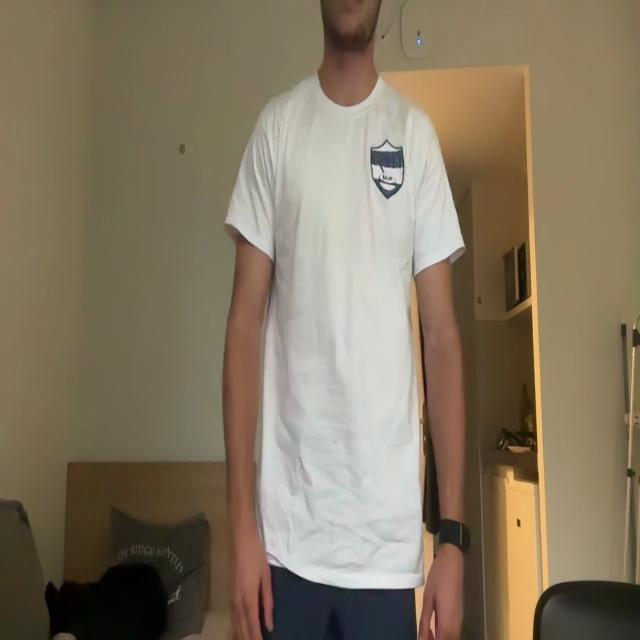elbow: (418, 312, 465, 361), (226, 302, 264, 359)
hand: (418, 540, 466, 637), (230, 542, 275, 640)
shoulder: (244, 100, 288, 189), (403, 106, 443, 192)
